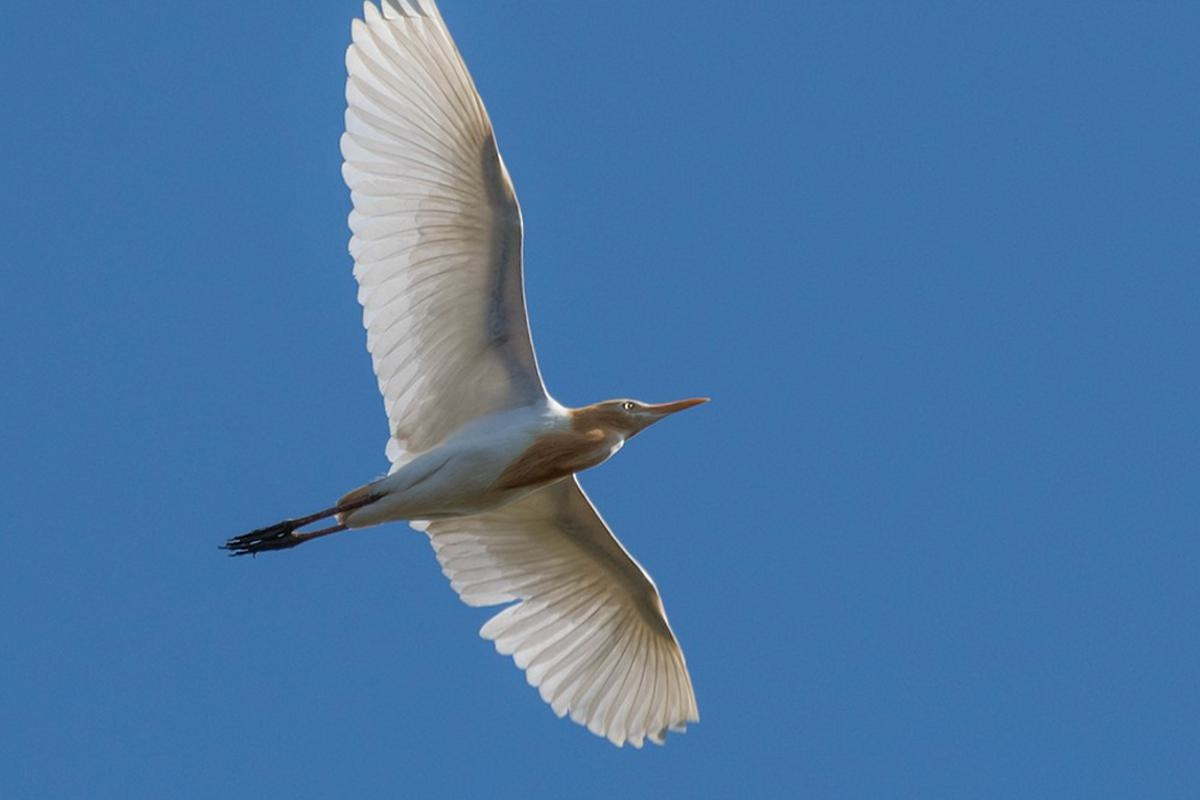egret: (204, 18, 771, 755)
